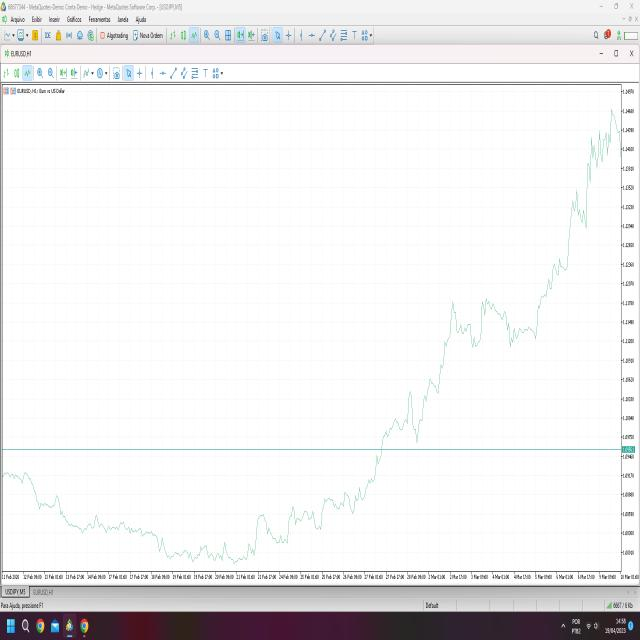bandeira_alta: (563, 179, 591, 283)
